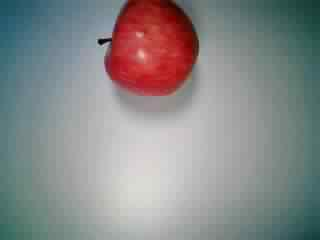apple: (97, 1, 201, 101)
